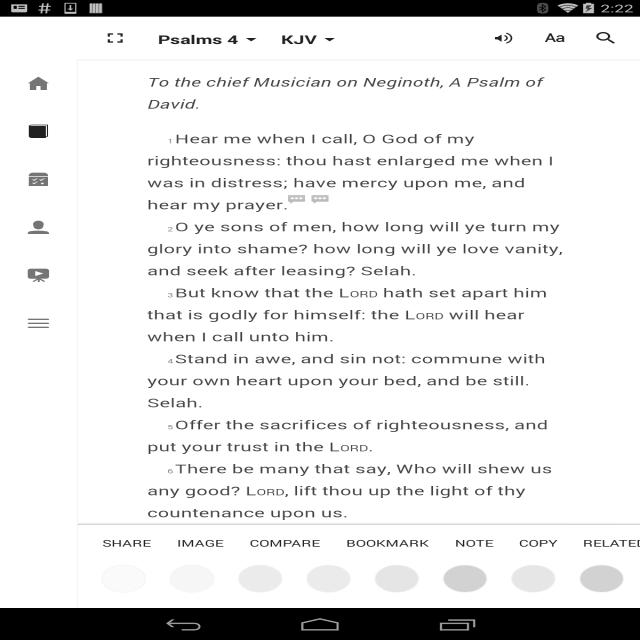ImageButton: (18, 70, 66, 96), (20, 164, 60, 190), (20, 264, 62, 288), (25, 116, 58, 146), (98, 26, 137, 49), (20, 311, 62, 332), (588, 29, 628, 47), (486, 25, 520, 46), (25, 216, 53, 234)
ImageView: (436, 560, 491, 596), (295, 563, 355, 593), (167, 561, 220, 594), (572, 562, 626, 594)
TextView: (138, 128, 578, 520), (140, 69, 555, 95), (144, 31, 343, 48), (343, 533, 435, 552), (244, 534, 328, 550), (512, 530, 562, 553), (97, 534, 161, 548)
